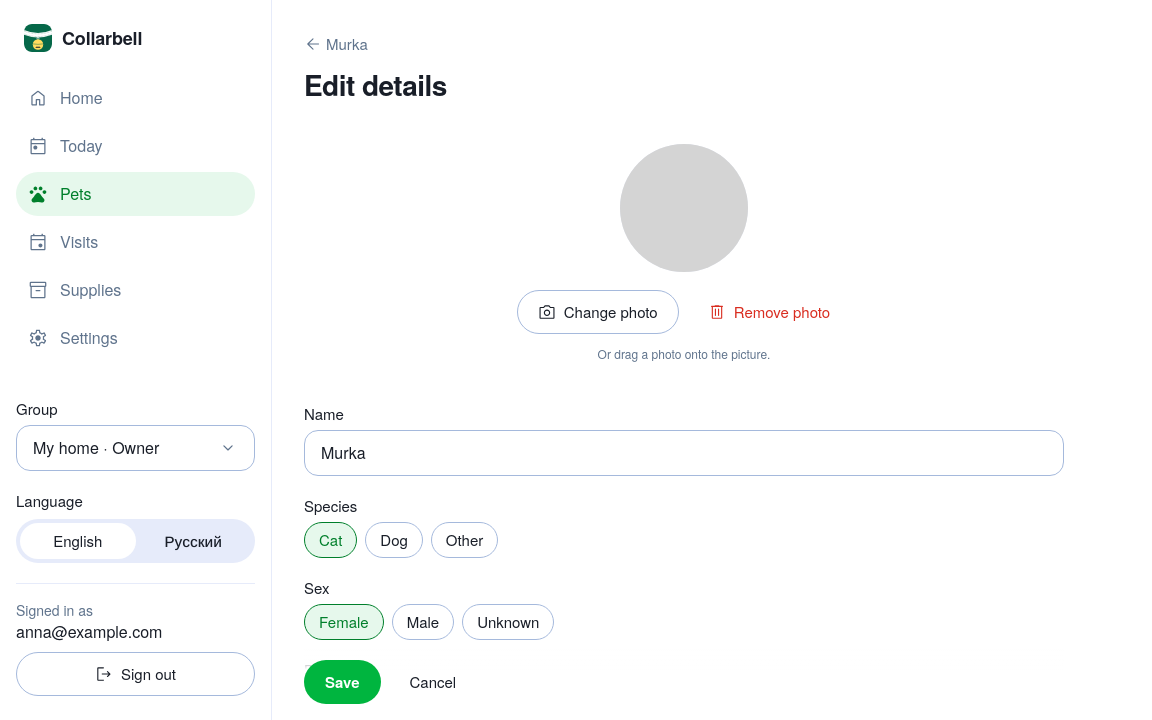
the words of a failed photo removal (review P9) › says the photo could not be removed, not that it could not be uploaded
The image size is (1152, 720).
Click the button "Remove photo" at coordinates (769, 312), box [687,290,851,334]
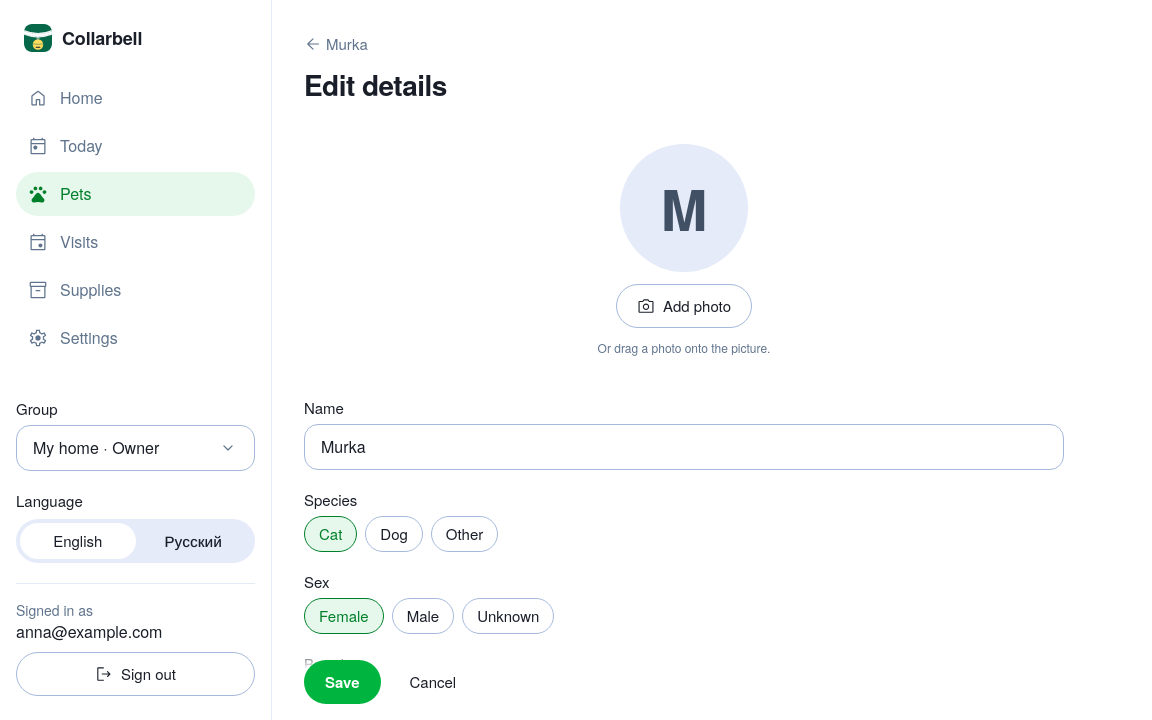
Click the button "Save" at coordinates (342, 682), box [304,660,380,704]
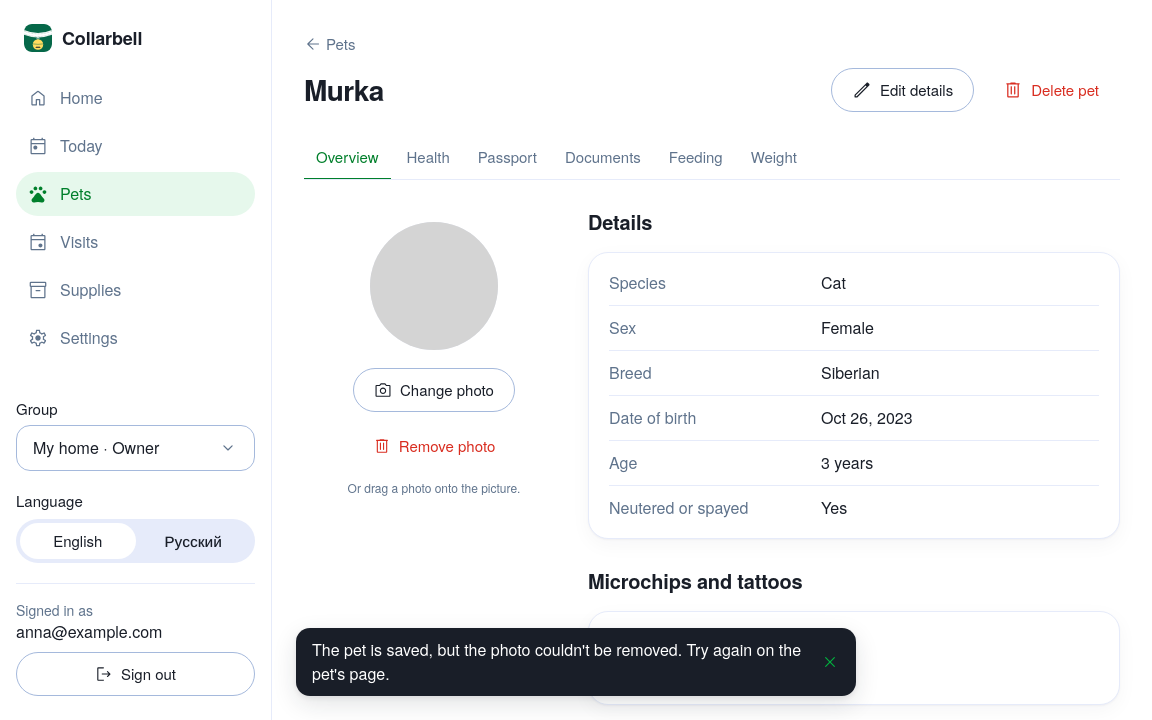
Result: the text "The pet is saved, but the photo couldn't be removed. Try again on the pet's page." is shown at [312,638,801,685]
